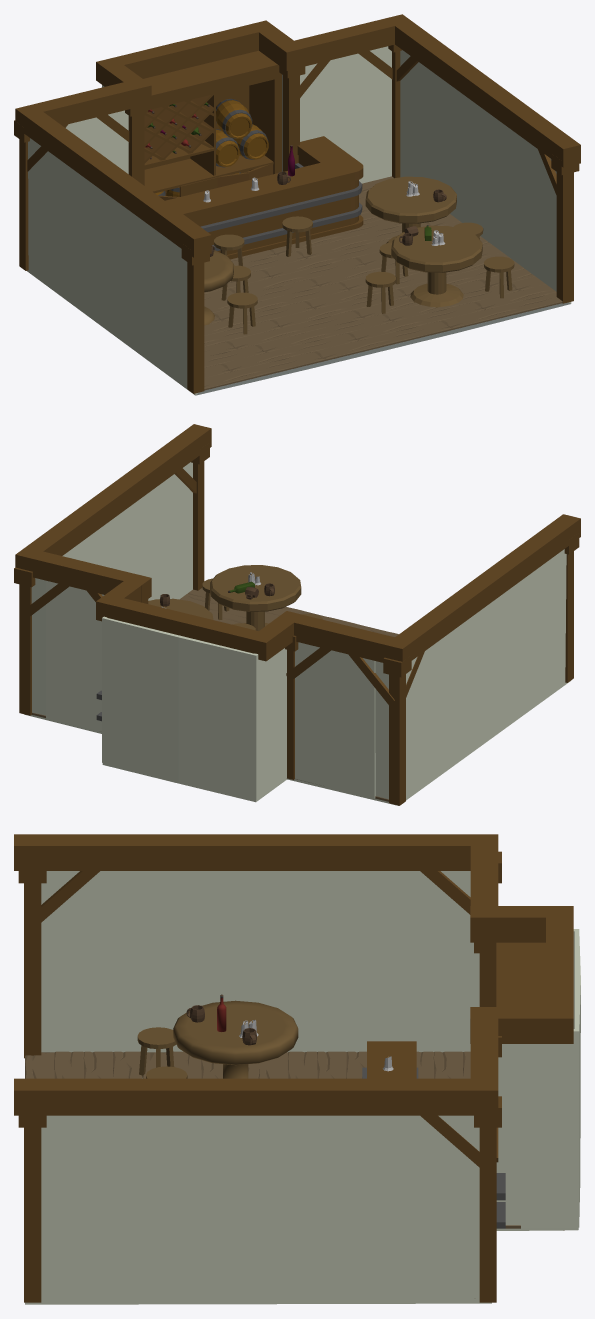
File: Tarven.fbx
3 renders of one model, top to bottom at view 1: azimuth 30°, elevation 25°; view 2: azimuth 150°, elevation 25°; view 3: azimuth 270°, elevation 25°, orthographic. The views are drawn at different scales.
Parts seen in each view (by area): view 1: Cube.015; view 2: Cube.015; view 3: Cube.015.
Boxes of the visible parts, x1,y1,x2,y2 form: Cube.015: [14, 14, 580, 395]; Cube.015: [14, 424, 580, 805]; Cube.015: [14, 834, 580, 1304].
Size of the model in its own units: 2440 by 978 by 2281.
